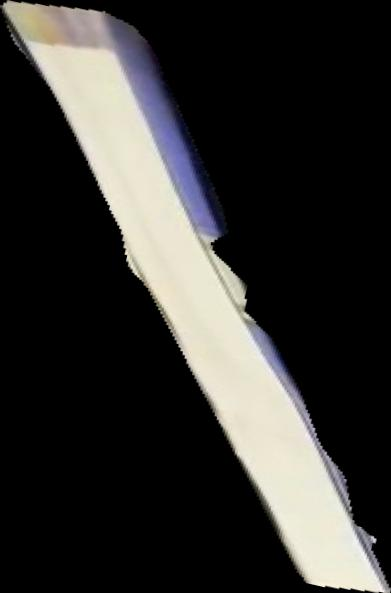backward: (1, 1, 391, 593)
